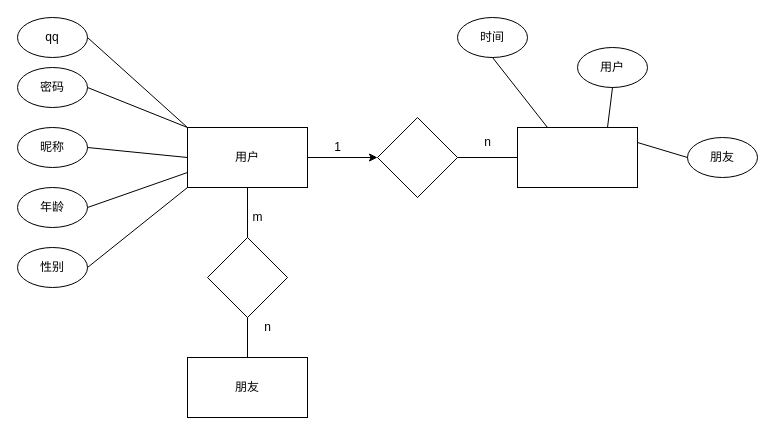
This 775x435 diagram has some shape labels left out. The shapes that lost their labels are listed below. From the top down, each one's centre as x and y in pixels, then its label:
At point (417, 157): "发送".
At point (577, 157): "消息".
At point (247, 277): "拥有".
